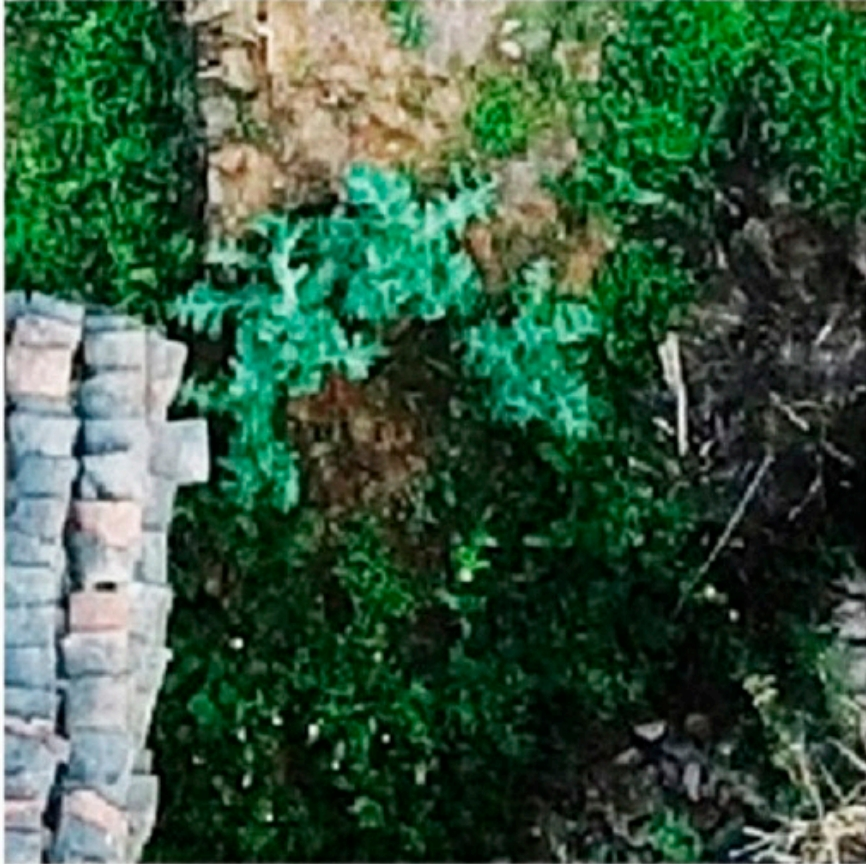Poppy: (178, 161, 356, 505), (461, 260, 620, 439), (327, 149, 492, 320)
